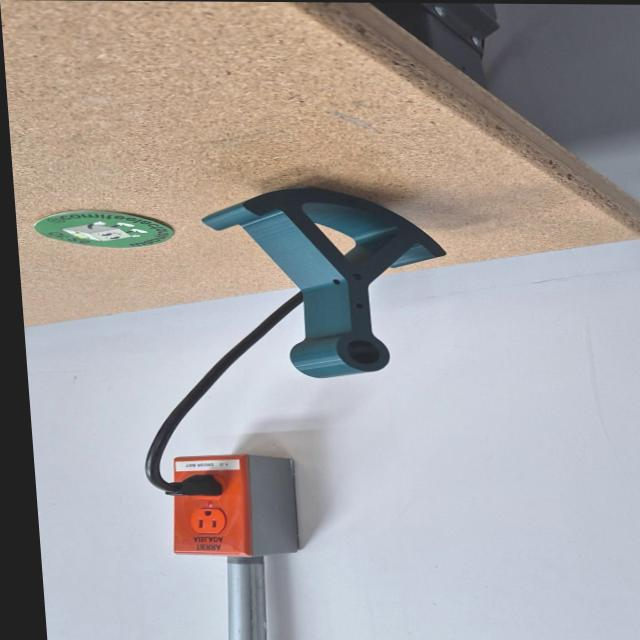haptic: (197, 186, 457, 380)
